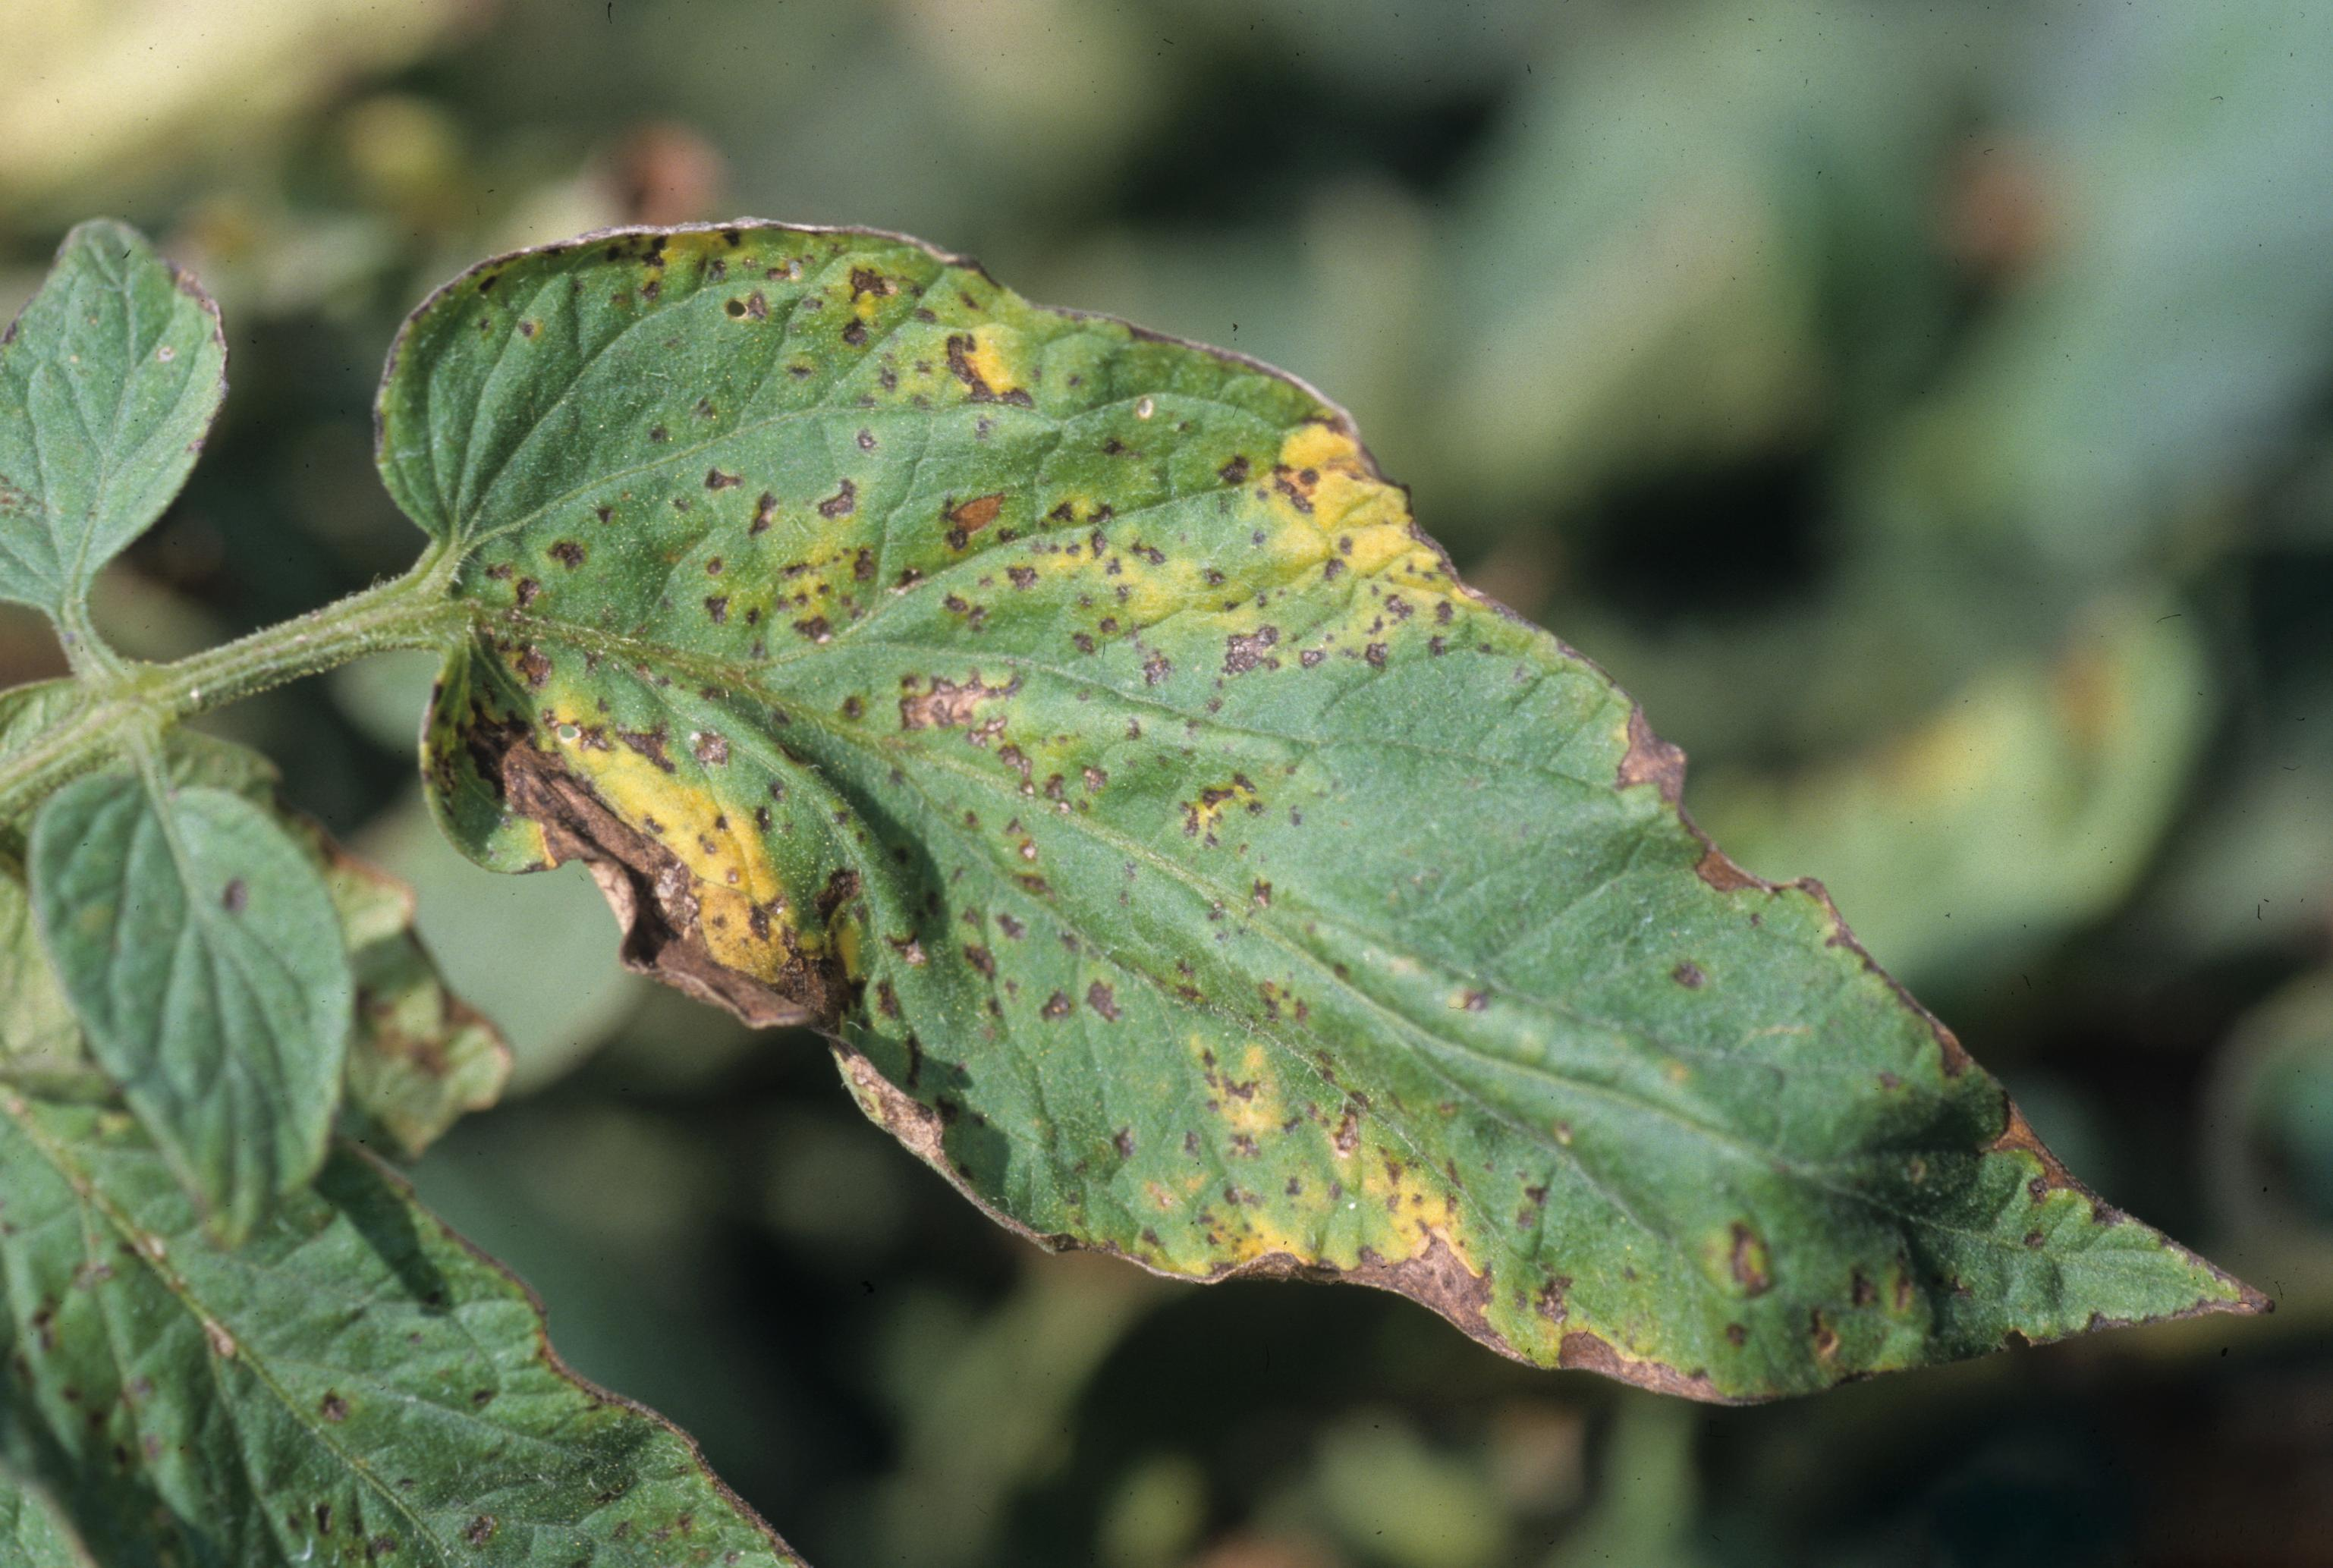Tomato leaf late blight: (249, 199, 2240, 1480)
